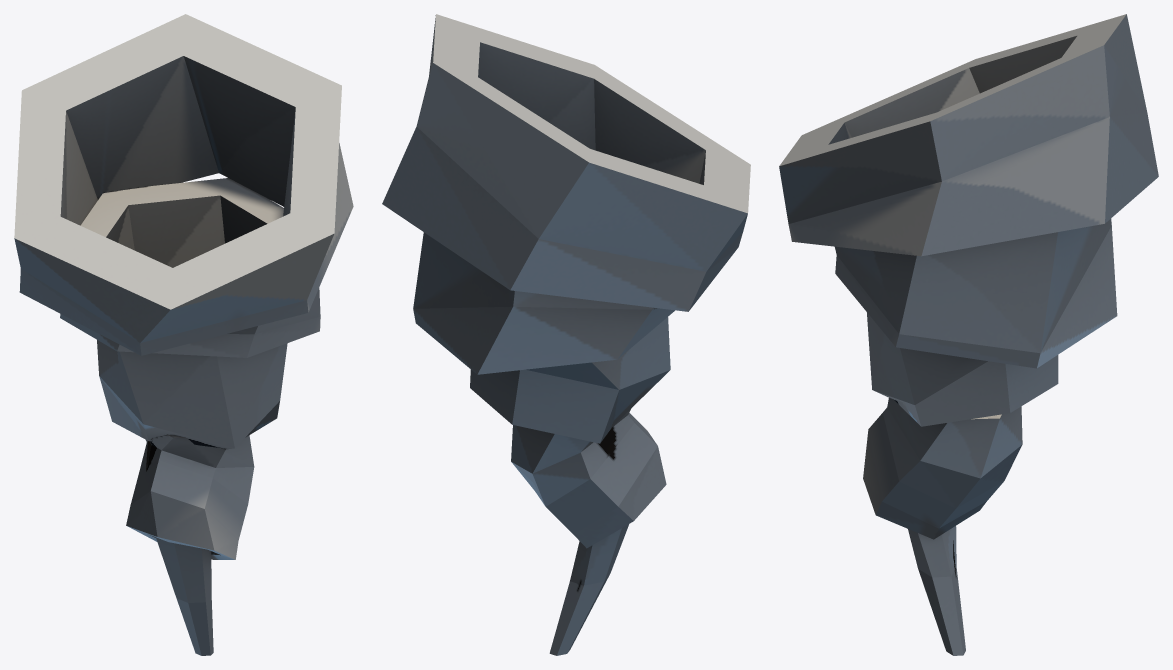
The model's file is b48384ed-dc47-4bce-8c0b-c60bb3369ee2.glb.
3 renders of one model, left to right at view 1: azimuth 30°, elevation 25°; view 2: azimuth 150°, elevation 25°; view 3: azimuth 270°, elevation 25°, orthographic. The views are drawn at different scales.
Visible parts, largest first — view 1: tornado; view 2: tornado; view 3: tornado.
Boxes of the visible parts, x1,y1,x2,y2 form: tornado: [14, 14, 353, 655]; tornado: [382, 14, 750, 655]; tornado: [779, 14, 1158, 655].
Size of the model in its own units: 1.26 by 2.21 by 1.2.
1 material, 1 textured.
